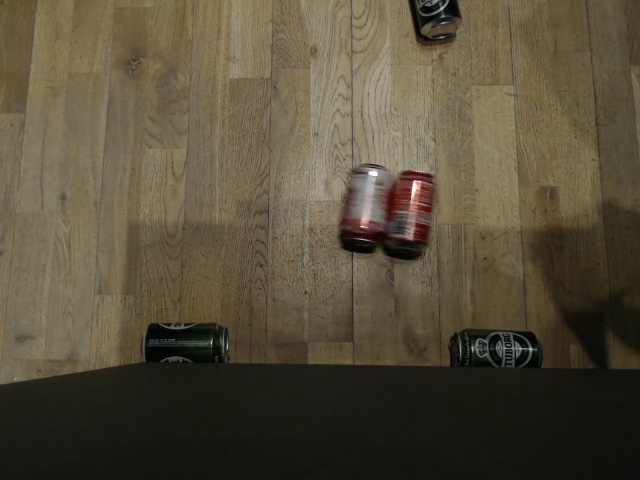beer: (448, 325, 543, 371), (138, 321, 232, 366), (403, 0, 461, 42)
cola: (337, 161, 395, 249), (384, 167, 440, 252)
